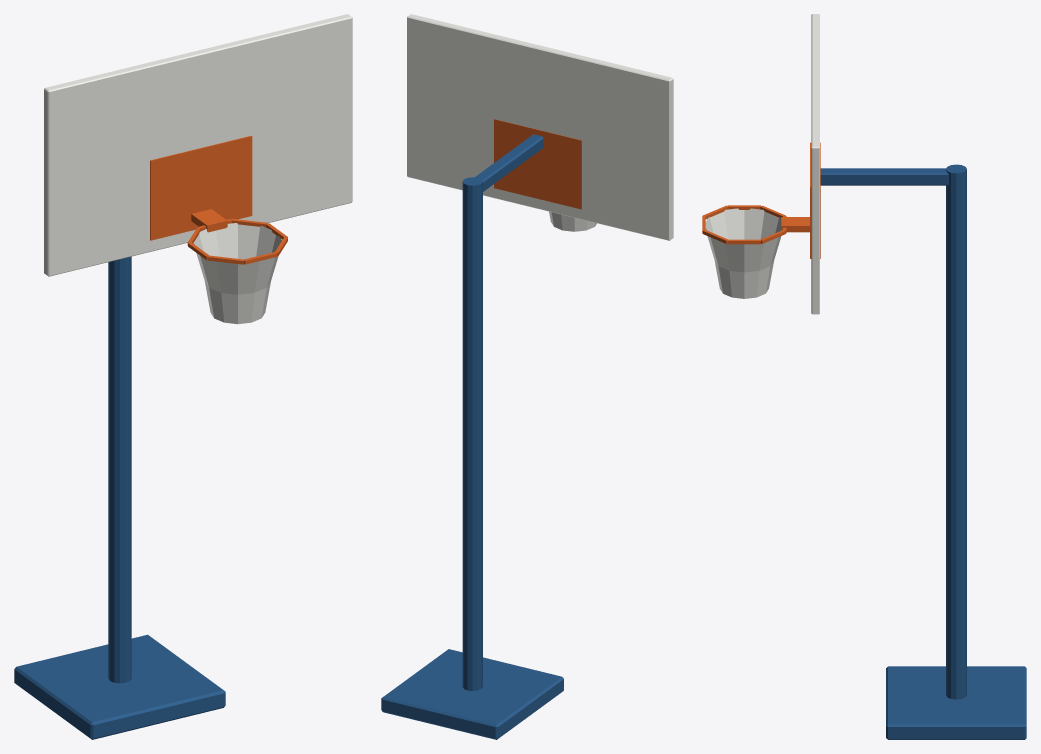
The model's file is Prop_WZ_SportsHoop.glb.
The picture shows the model from 3 angles, left to right: view 1: azimuth 30°, elevation 25°; view 2: azimuth 150°, elevation 25°; view 3: azimuth 270°, elevation 25°; orthographic projection. The views are drawn at different scales.
Visible parts, largest first — view 1: Prop_WZ_SportsHoop; view 2: Prop_WZ_SportsHoop; view 3: Prop_WZ_SportsHoop.
Part boxes in pixels (bbox=[...]): Prop_WZ_SportsHoop: bbox=[14, 14, 352, 739]; Prop_WZ_SportsHoop: bbox=[381, 14, 673, 739]; Prop_WZ_SportsHoop: bbox=[702, 14, 1026, 739].
Size of what is drawn, in the model's own units: 1.8 by 3.95 by 1.84.
